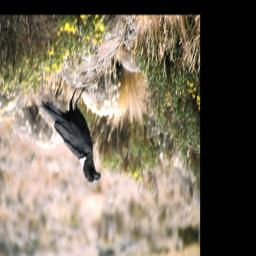Crow: (39, 84, 103, 186)
